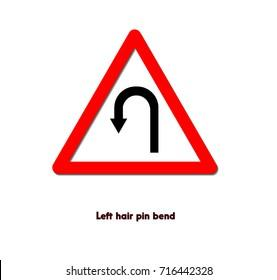Left Hair Pin Bend: (36, 18, 234, 226)
